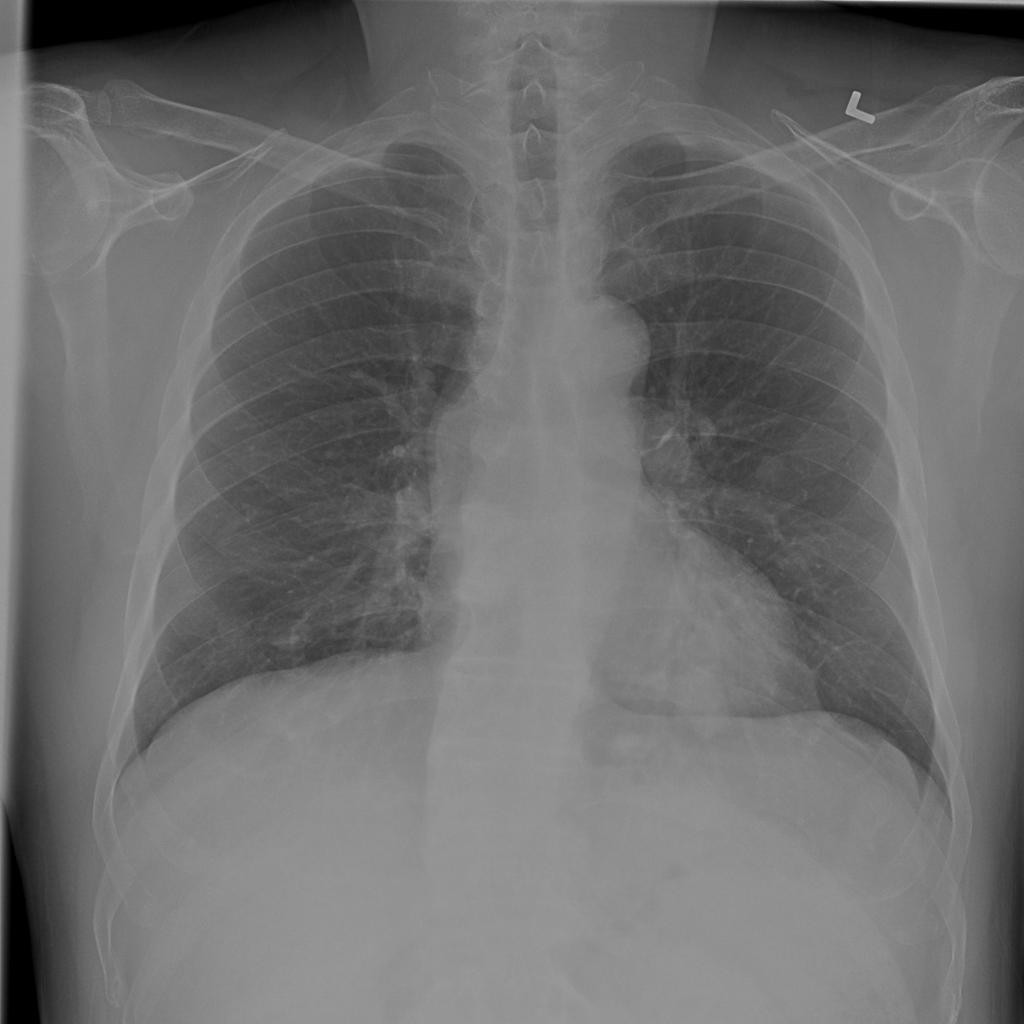nodule: (653, 631, 752, 751), (591, 712, 671, 782), (261, 614, 320, 660)
